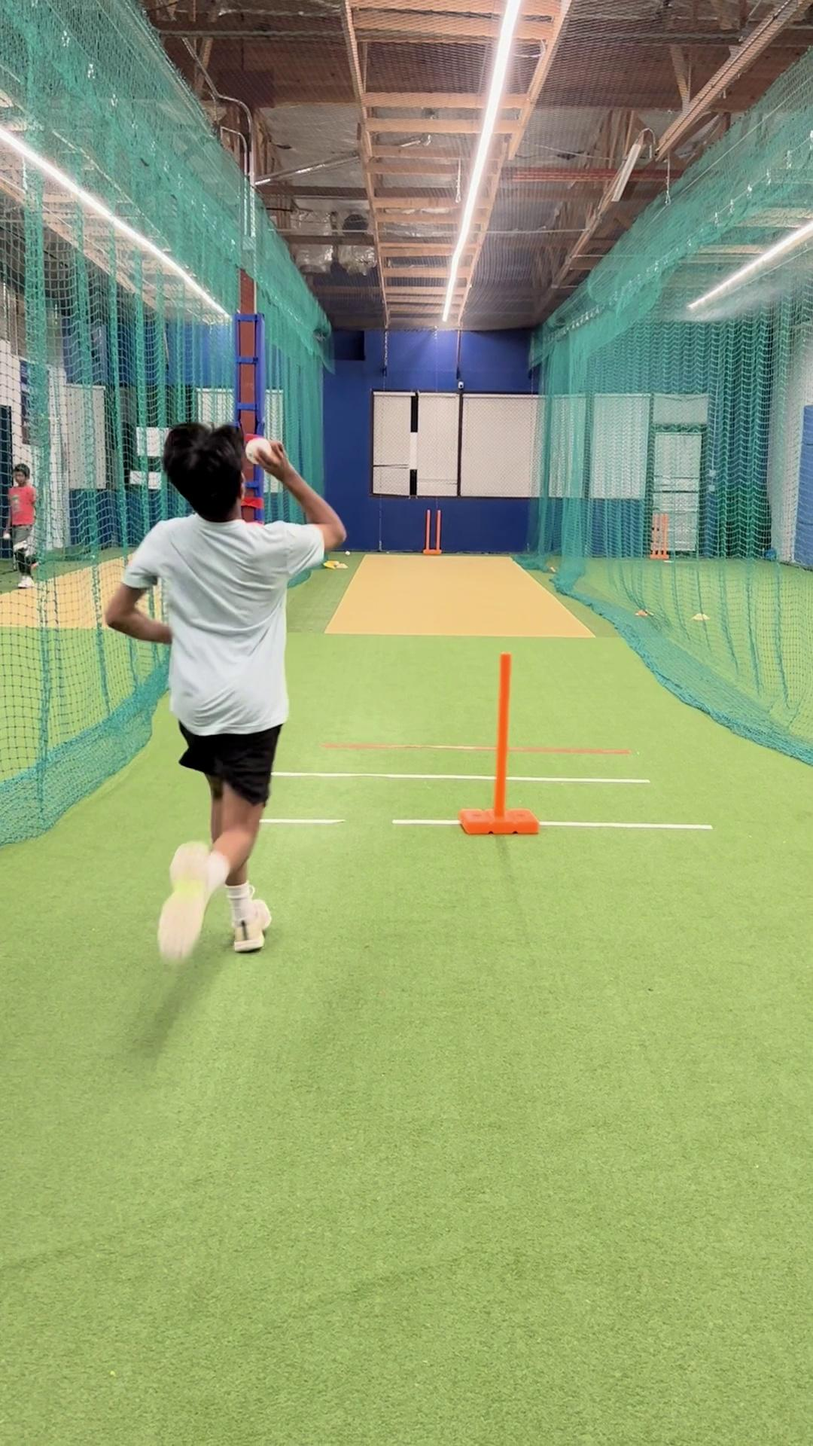ball: (239, 427, 277, 473)
